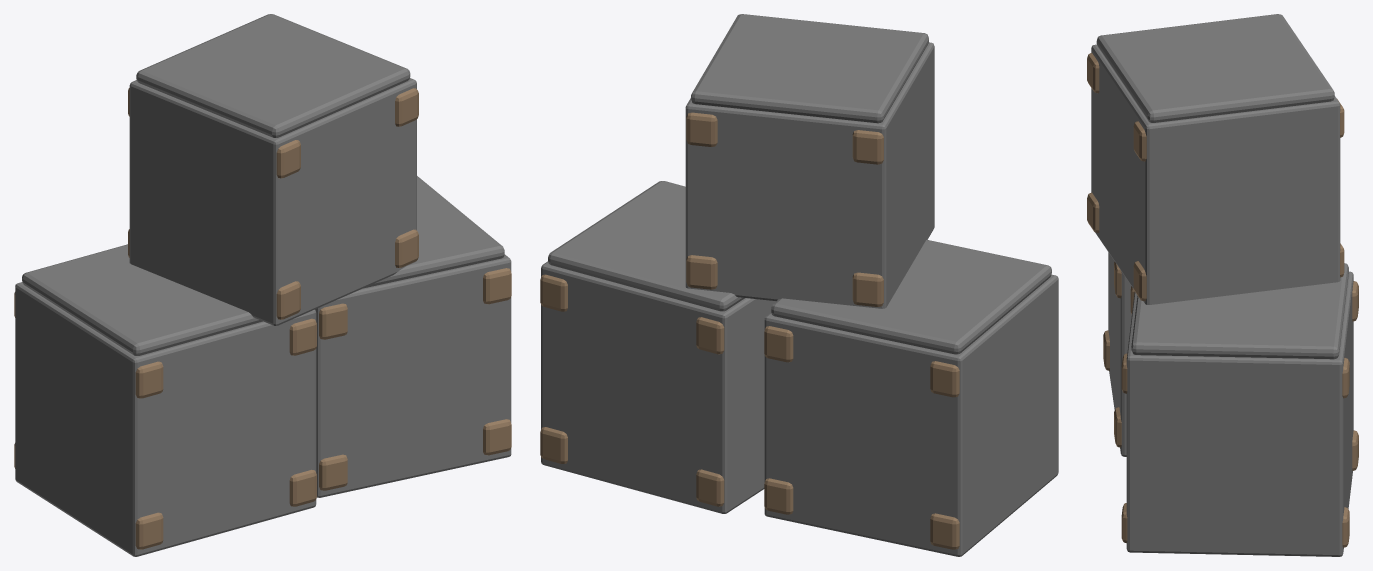
File: crates.glb
3 renders of one model, left to right at view 1: azimuth 30°, elevation 25°; view 2: azimuth 150°, elevation 25°; view 3: azimuth 270°, elevation 25°, orthographic. The views are drawn at different scales.
Parts seen in each view (by area): view 1: body.001, body, body.002, lid.002, lid, lid.001, batten.002, batten.001, batten.005, batten.006, batten.007, batten.008 (+6 smaller); view 2: body.001, body, body.002, lid.002, lid, lid.001, batten.011, batten, batten.009, batten.010, batten.001, batten.003 (+6 smaller); view 3: body.002, body, lid.002, lid.001, body.001, batten, batten.011, batten.008, batten.007, batten.010, batten.009, batten.006.
Boxes of the visible parts, box(x1,y1,x2,y2) form: body.001: box(15, 282, 316, 556); body: box(129, 78, 416, 325); body.002: box(315, 254, 511, 497); lid.002: box(136, 14, 410, 137); lid: box(22, 244, 262, 355); lid.001: box(363, 176, 504, 288); batten.002: box(14, 292, 163, 398); batten.001: box(14, 443, 163, 549); batten.005: box(319, 454, 347, 490); batten.006: box(319, 303, 347, 339); batten.007: box(483, 419, 511, 455); batten.008: box(483, 268, 511, 304); body.001: box(764, 274, 1058, 556); body: box(685, 42, 934, 308); body.002: box(541, 261, 775, 513); lid.002: box(691, 14, 928, 123); lid: box(771, 240, 1051, 354); lid.001: box(548, 181, 744, 311); batten.011: box(686, 255, 717, 289); batten: box(686, 112, 717, 146); batten.009: box(852, 272, 883, 306); batten.010: box(852, 130, 883, 164); batten.001: box(930, 513, 959, 549); batten.003: box(764, 478, 793, 514); body.002: box(1126, 271, 1353, 556); body: box(1091, 44, 1340, 304); lid.002: box(1096, 14, 1334, 122); lid.001: box(1131, 263, 1348, 359); body.001: box(1108, 252, 1131, 456); batten: box(1133, 99, 1344, 161); batten.011: box(1133, 243, 1344, 301); batten.008: box(1121, 353, 1349, 398); batten.007: box(1121, 503, 1349, 547); batten.010: box(1087, 53, 1099, 93); batten.009: box(1087, 192, 1099, 232); batten.006: box(1130, 281, 1358, 321).
Size of the model in its own units: 1.33 by 1.25 by 0.7768.
2 materials, 1 textured.
